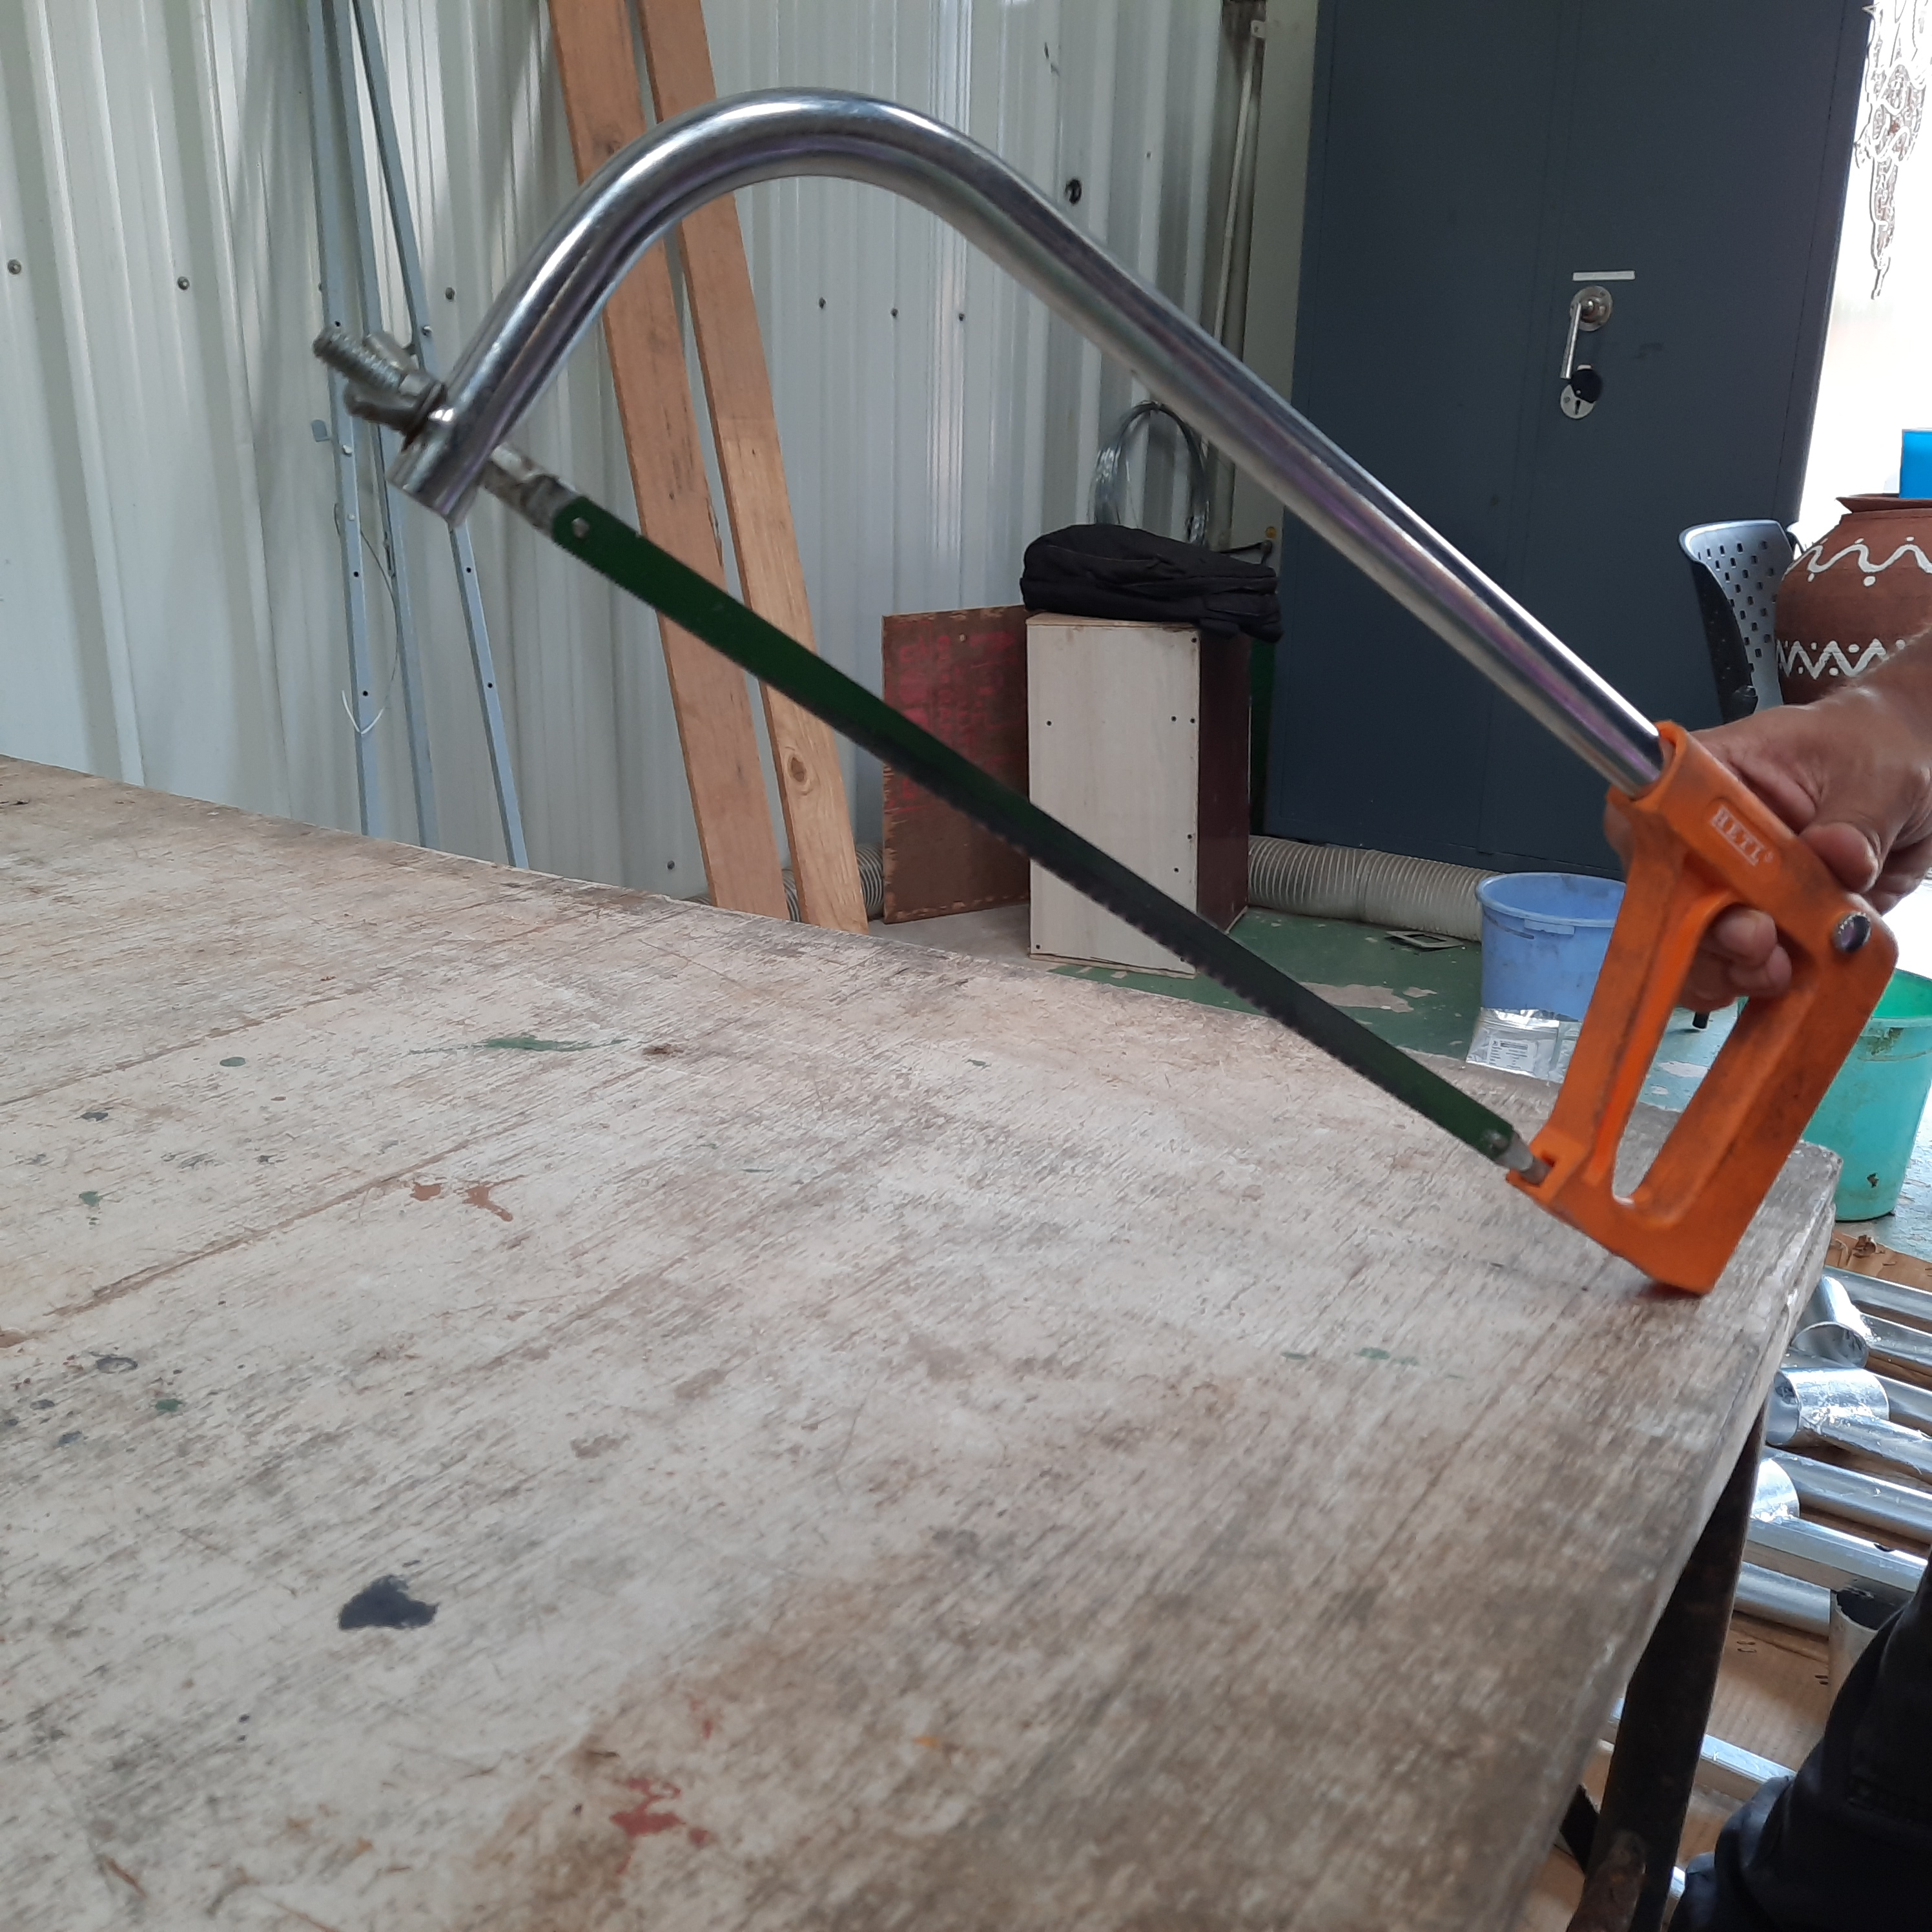Hexaframe: (308, 78, 1902, 1343)
